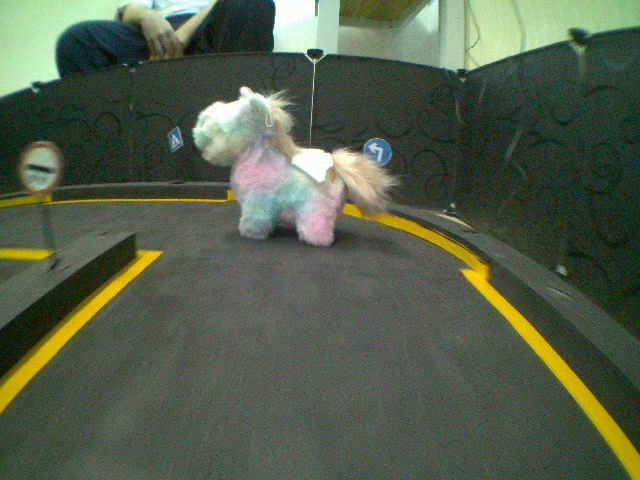ball: (191, 86, 397, 247)
